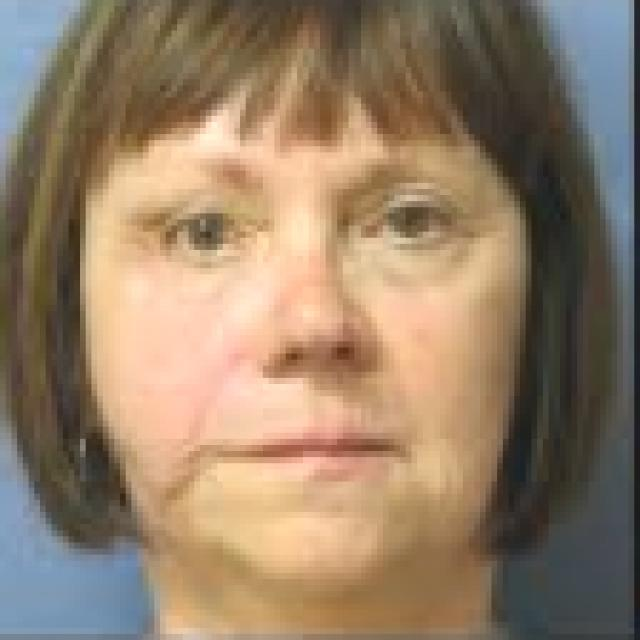normal_face: (78, 0, 559, 607)
